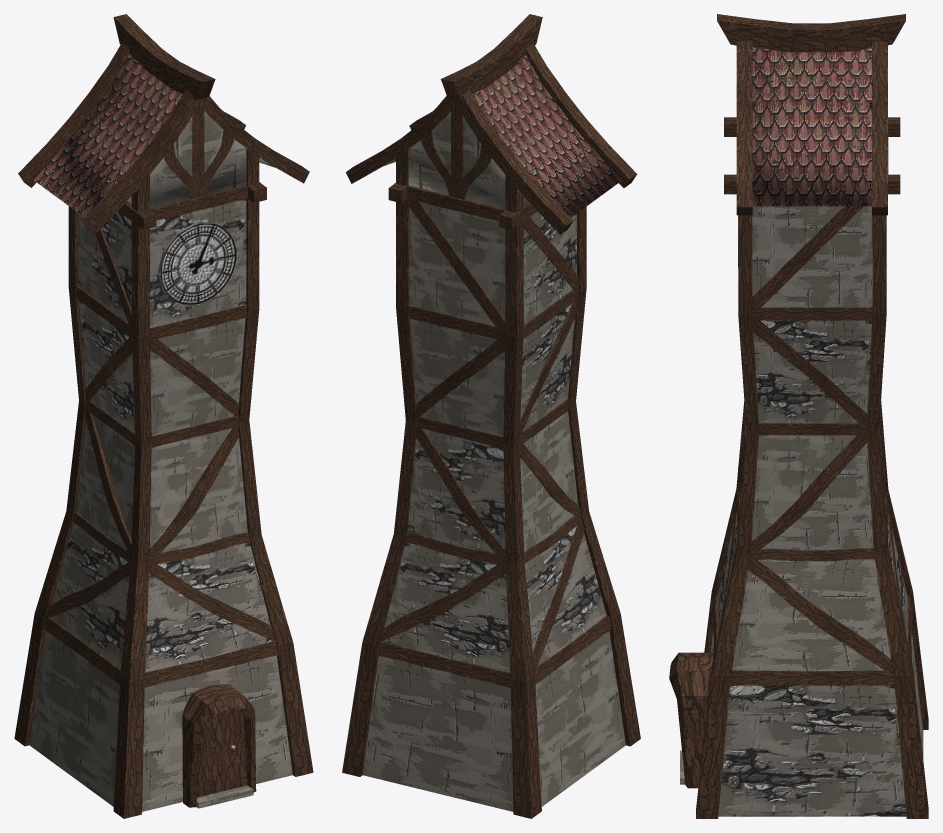
The model's file is stylized_clock_tower.glb.
The picture shows the model from 3 angles, left to right: view 1: azimuth 30°, elevation 25°; view 2: azimuth 150°, elevation 25°; view 3: azimuth 270°, elevation 25°; orthographic projection. The views are drawn at different scales.
Visible parts, largest first — view 1: Cube_0, Cube.001_3, Cube.027_40, Cube.039_42, Cylinder_39, Cube.046_49, Cube.047_50, Cube.038_41, Cube.025_27, Cube.020_22, Cube.024_26, Cube.026_28 (+16 smaller); view 2: Cube_0, Cube.001_3, Cube.027_40, Cube.039_42, Cube.038_41, Cube.028_29, Cube.031_32, Cube.034_35, Cube.032_33, Cube.033_34, Cube.014_16, Cube.035_36 (+14 smaller); view 3: Cube_0, Cube.001_3, Cube.027_40, Cube.039_42, Cube.038_41, Cube.046_49, Cube.006_8, Cube.002_4, Cube.007_9, Cube.009_11, Cube.008_10, Cube.005_7 (+4 smaller).
Part boxes in pixels (box(x1,y1,x2,y2)): Cube_0: box(29, 199, 292, 811); Cube.001_3: box(14, 149, 313, 818); Cube.027_40: box(34, 54, 275, 217); Cube.039_42: box(18, 43, 309, 234); Cylinder_39: box(158, 222, 237, 304); Cube.046_49: box(182, 684, 256, 807); Cube.047_50: box(197, 708, 247, 797); Cube.038_41: box(113, 14, 215, 99); Cube.025_27: box(149, 426, 239, 556); Cube.020_22: box(144, 641, 277, 687); Cube.024_26: box(149, 564, 275, 642); Cube.026_28: box(150, 339, 239, 416); Cube_0: box(362, 202, 625, 811); Cube.001_3: box(342, 149, 640, 818); Cube.027_40: box(383, 55, 621, 217); Cube.039_42: box(346, 43, 636, 234); Cube.038_41: box(441, 14, 542, 99); Cube.028_29: box(377, 641, 510, 687); Cube.031_32: box(380, 564, 506, 641); Cube.034_35: box(408, 199, 505, 329); Cube.032_33: box(415, 427, 505, 556); Cube.033_34: box(415, 340, 505, 417); Cube.014_16: box(533, 522, 584, 672); Cube.035_36: box(394, 183, 505, 221); Cube_0: box(710, 206, 923, 816); Cube.001_3: box(696, 215, 928, 818); Cube.027_40: box(752, 47, 871, 206); Cube.039_42: box(736, 41, 887, 215); Cube.038_41: box(717, 14, 905, 52); Cube.046_49: box(669, 652, 713, 788); Cube.006_8: box(748, 560, 892, 670); Cube.002_4: box(730, 670, 894, 685); Cube.007_9: box(751, 435, 866, 549); Cube.009_11: box(752, 206, 863, 307); Cube.008_10: box(753, 320, 867, 423); Cube.005_7: box(752, 307, 872, 320).
Size of the model in its own units: 4.01 by 12.32 by 3.85.
1 material, 1 textured.
